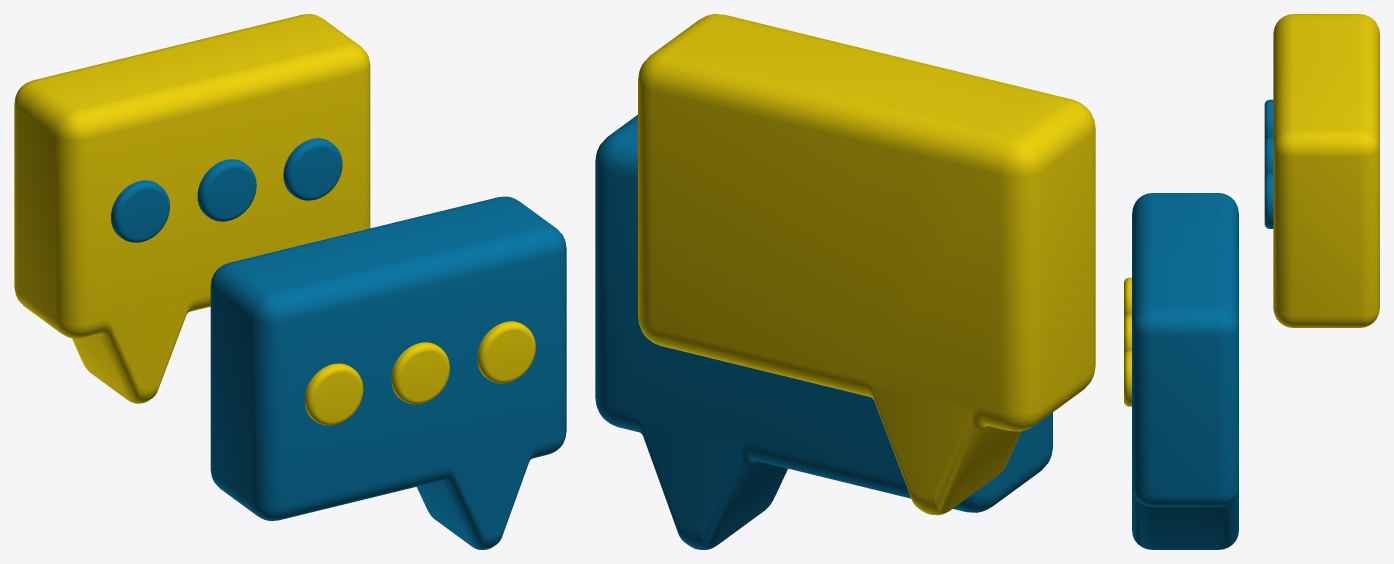
3 views of the same model, side by side, from view 1: azimuth 30°, elevation 25°; view 2: azimuth 150°, elevation 25°; view 3: azimuth 270°, elevation 25° (orthographic). The views are drawn at different scales.
Parts seen in each view (by area): view 1: Cube_Cube.003, Cube.001, Cylinder.005_Cylinder.008, Cylinder.006_Cylinder.009, Cylinder.004_Cylinder.001, Cylinder.003_Cylinder.004, Cylinder.001_Cylinder.003, Cylinder.002; view 2: Cube.001, Cube_Cube.003; view 3: Cube_Cube.003, Cube.001, Cylinder.006_Cylinder.009, Cylinder.002, Cylinder.004_Cylinder.001, Cylinder.005_Cylinder.008.
Part boxes in pixels (x1=…): Cube_Cube.003: x1=210, y1=196, x2=566, y2=549; Cube.001: x1=14, y1=14, x2=370, y2=403; Cylinder.005_Cylinder.008: x1=197, y1=159, x2=256, y2=221; Cylinder.006_Cylinder.009: x1=283, y1=138, x2=342, y2=200; Cylinder.004_Cylinder.001: x1=111, y1=180, x2=169, y2=242; Cylinder.003_Cylinder.004: x1=304, y1=363, x2=363, y2=425; Cylinder.001_Cylinder.003: x1=391, y1=342, x2=449, y2=404; Cylinder.002: x1=477, y1=321, x2=535, y2=383; Cube.001: x1=638, y1=14, x2=1095, y2=515; Cube_Cube.003: x1=595, y1=115, x2=1052, y2=549; Cube_Cube.003: x1=1132, y1=193, x2=1238, y2=549; Cube.001: x1=1273, y1=14, x2=1379, y2=327; Cylinder.006_Cylinder.009: x1=1264, y1=172, x2=1273, y2=228; Cylinder.002: x1=1124, y1=350, x2=1131, y2=406; Cylinder.004_Cylinder.001: x1=1264, y1=99, x2=1273, y2=139; Cylinder.005_Cylinder.008: x1=1264, y1=136, x2=1273, y2=175.
Bounding box in the file's own units: 3.93 × 4.04 × 2.36.
